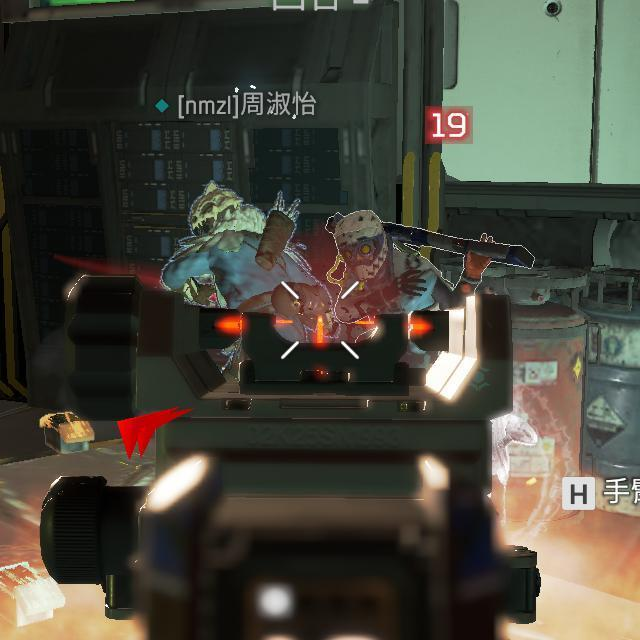avatar: (160, 176, 333, 314), (325, 207, 456, 312)
